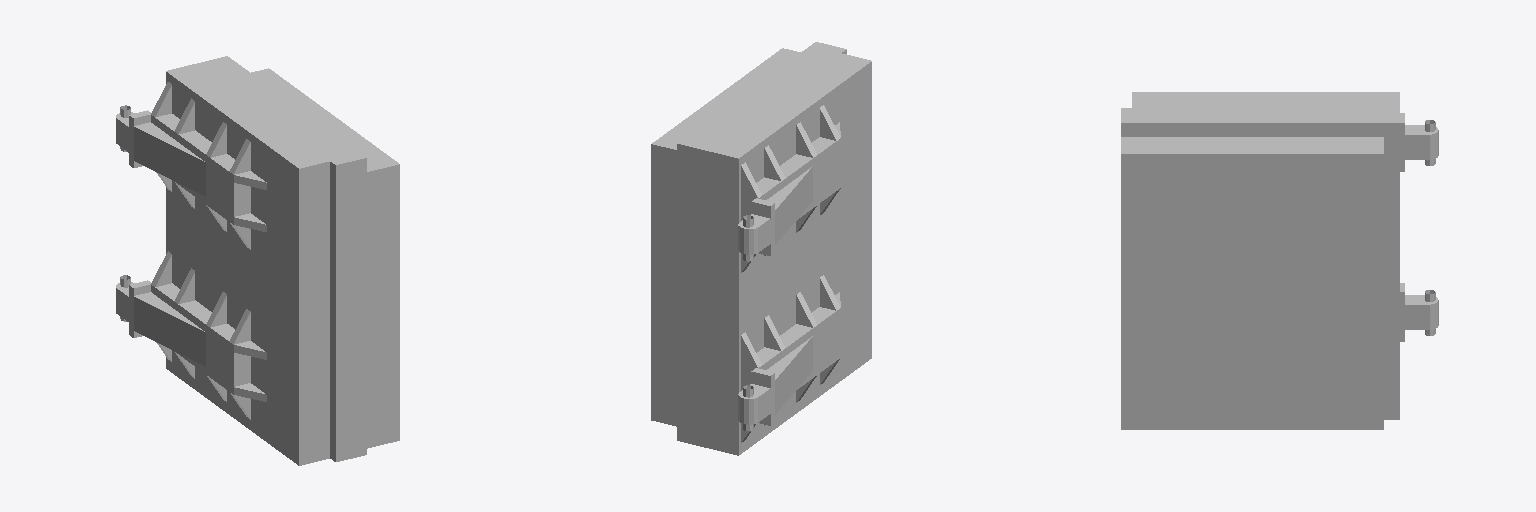
The model's file is BunkerDoorB.obj.
3 renders of one model, left to right at view 1: azimuth 30°, elevation 25°; view 2: azimuth 150°, elevation 25°; view 3: azimuth 270°, elevation 25°, orthographic.
Parts seen in each view (by area): view 1: Hermetic_Door_2_Cube.046; view 2: Hermetic_Door_2_Cube.046; view 3: Hermetic_Door_2_Cube.046.
Boxes of the visible parts, x1,y1,x2,y2 form: Hermetic_Door_2_Cube.046: [116, 56, 399, 465]; Hermetic_Door_2_Cube.046: [651, 42, 871, 455]; Hermetic_Door_2_Cube.046: [1121, 92, 1438, 429].
Bounding box in the file's own units: 1.62 × 3.54 × 3.42.